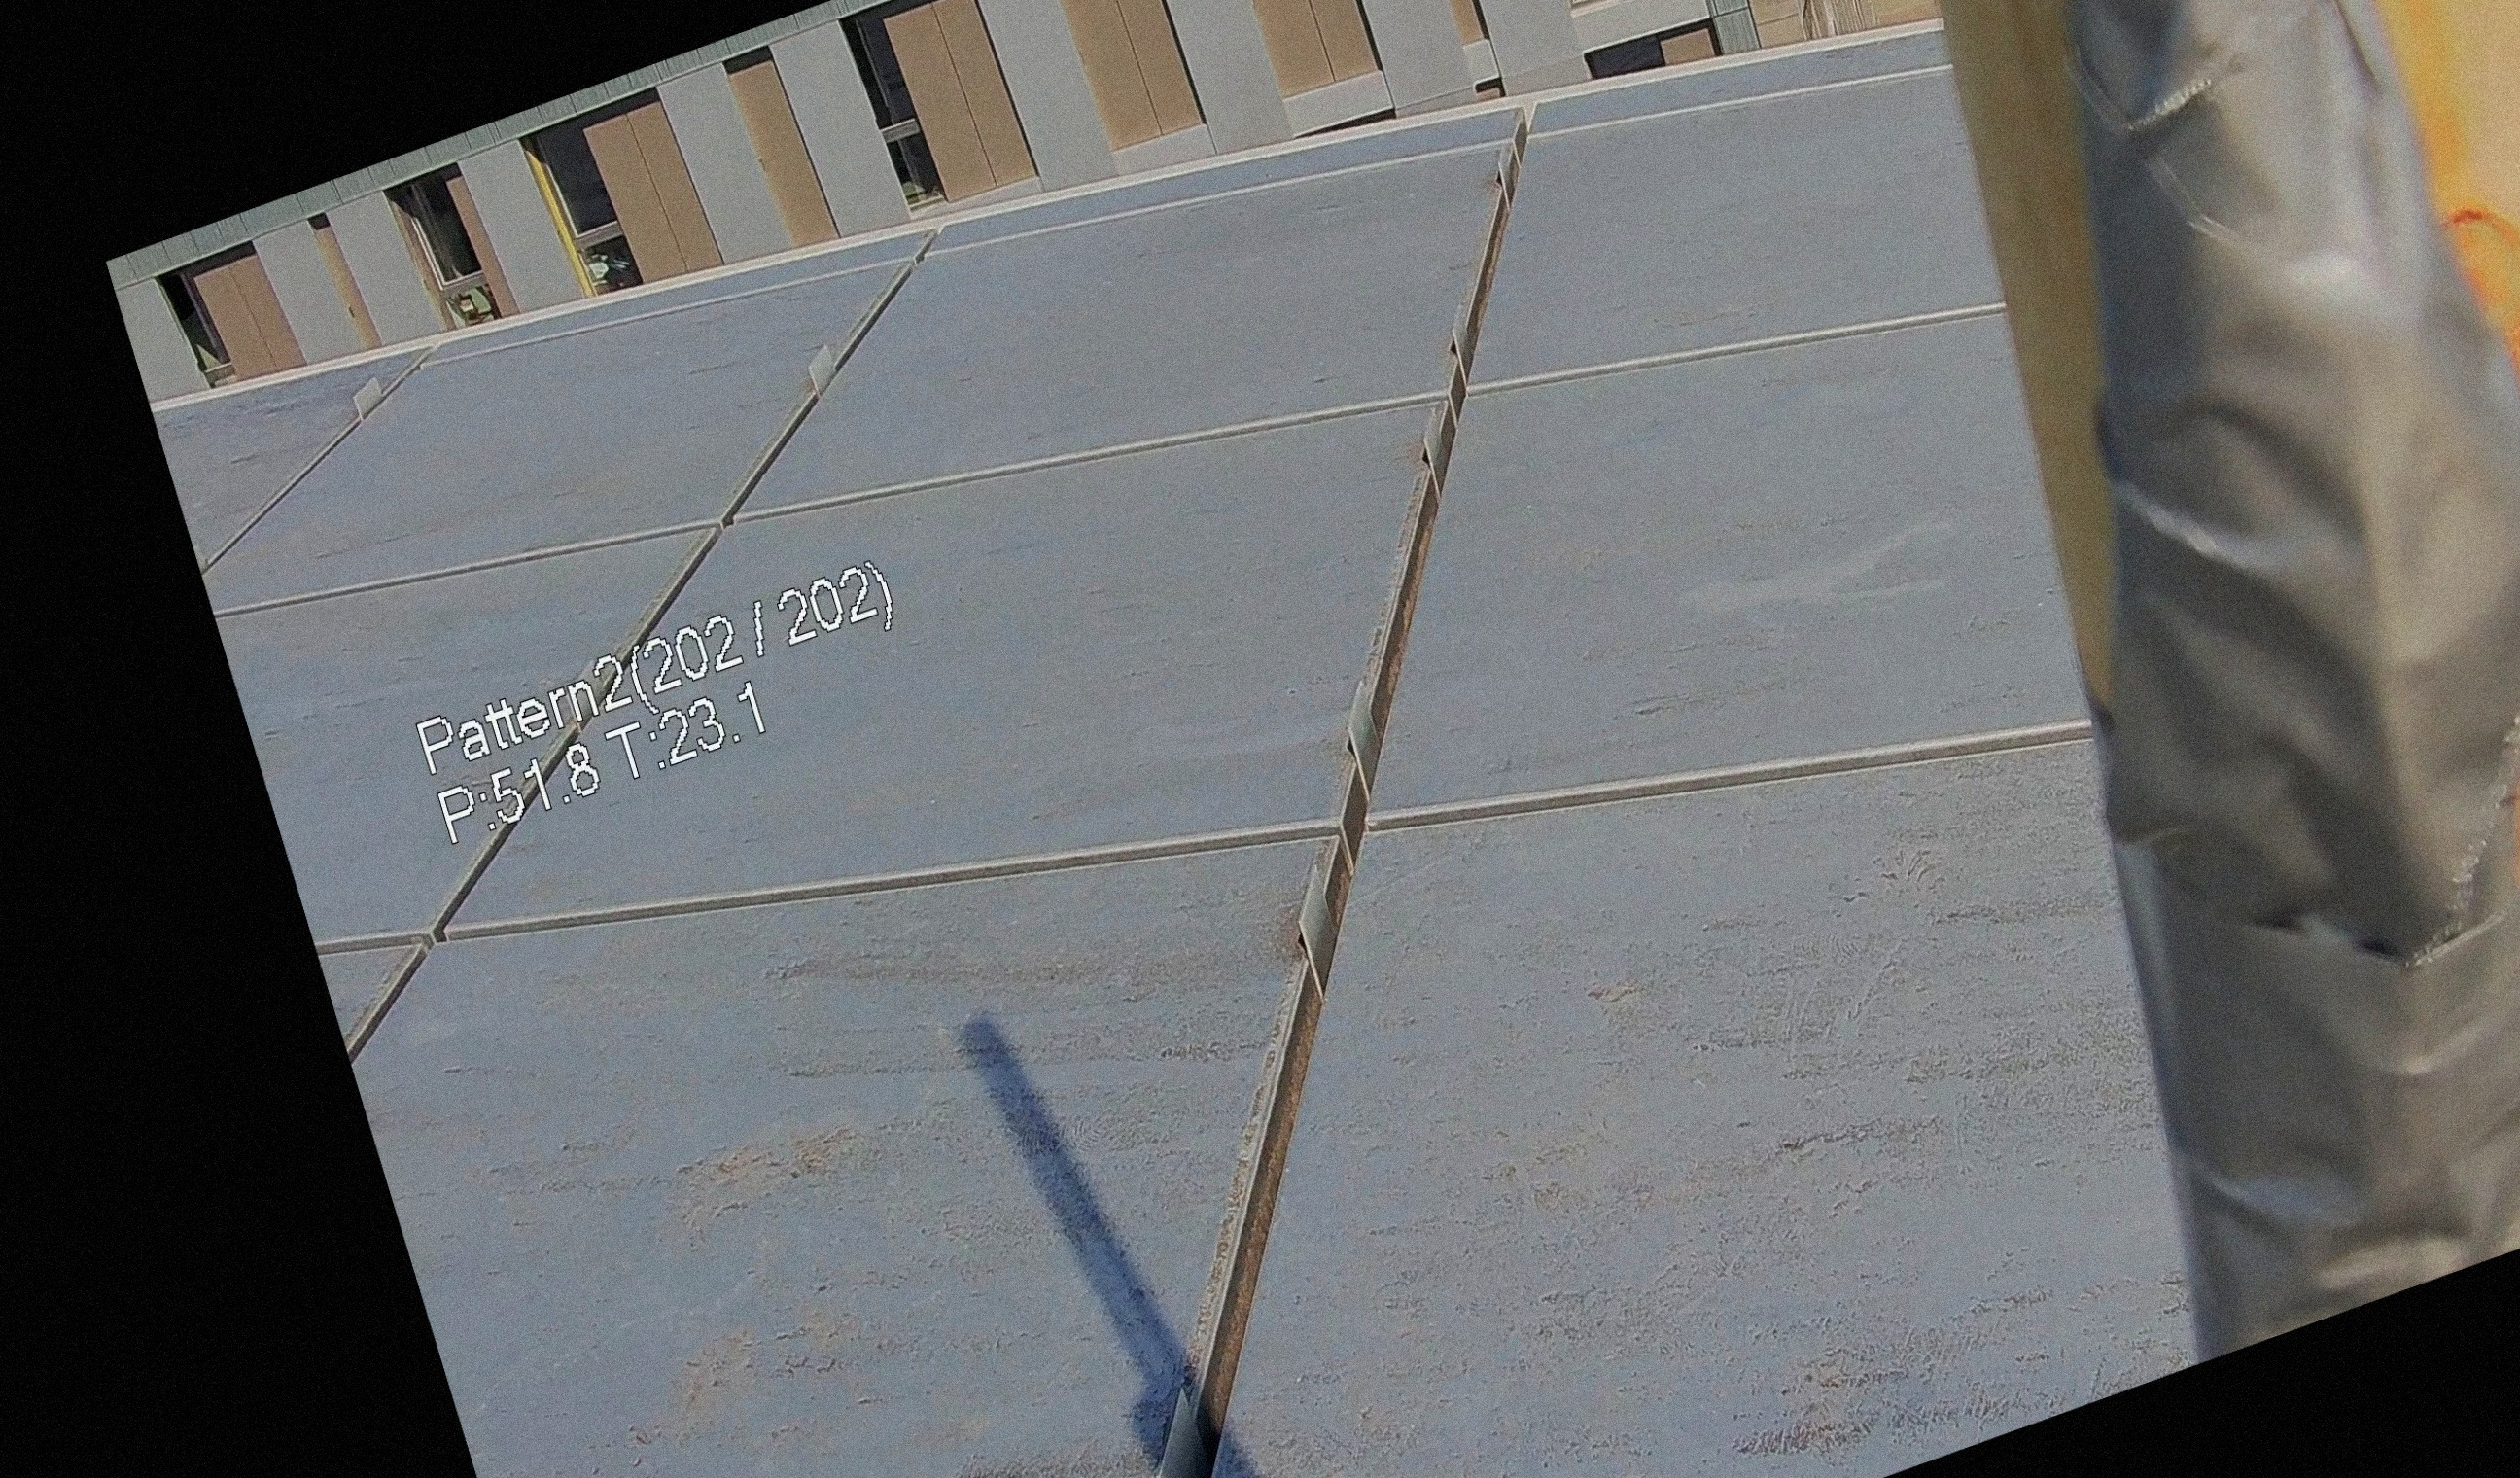Other: (1760, 0, 2520, 1255)
